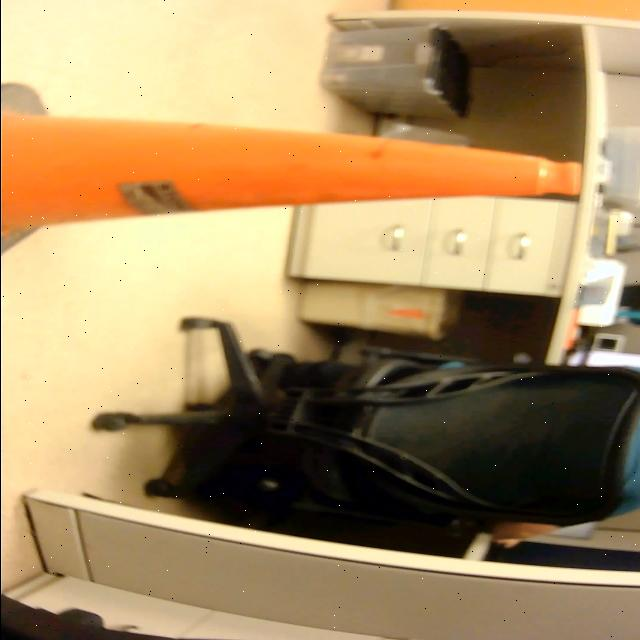traffic cone: (1, 76, 591, 264)
